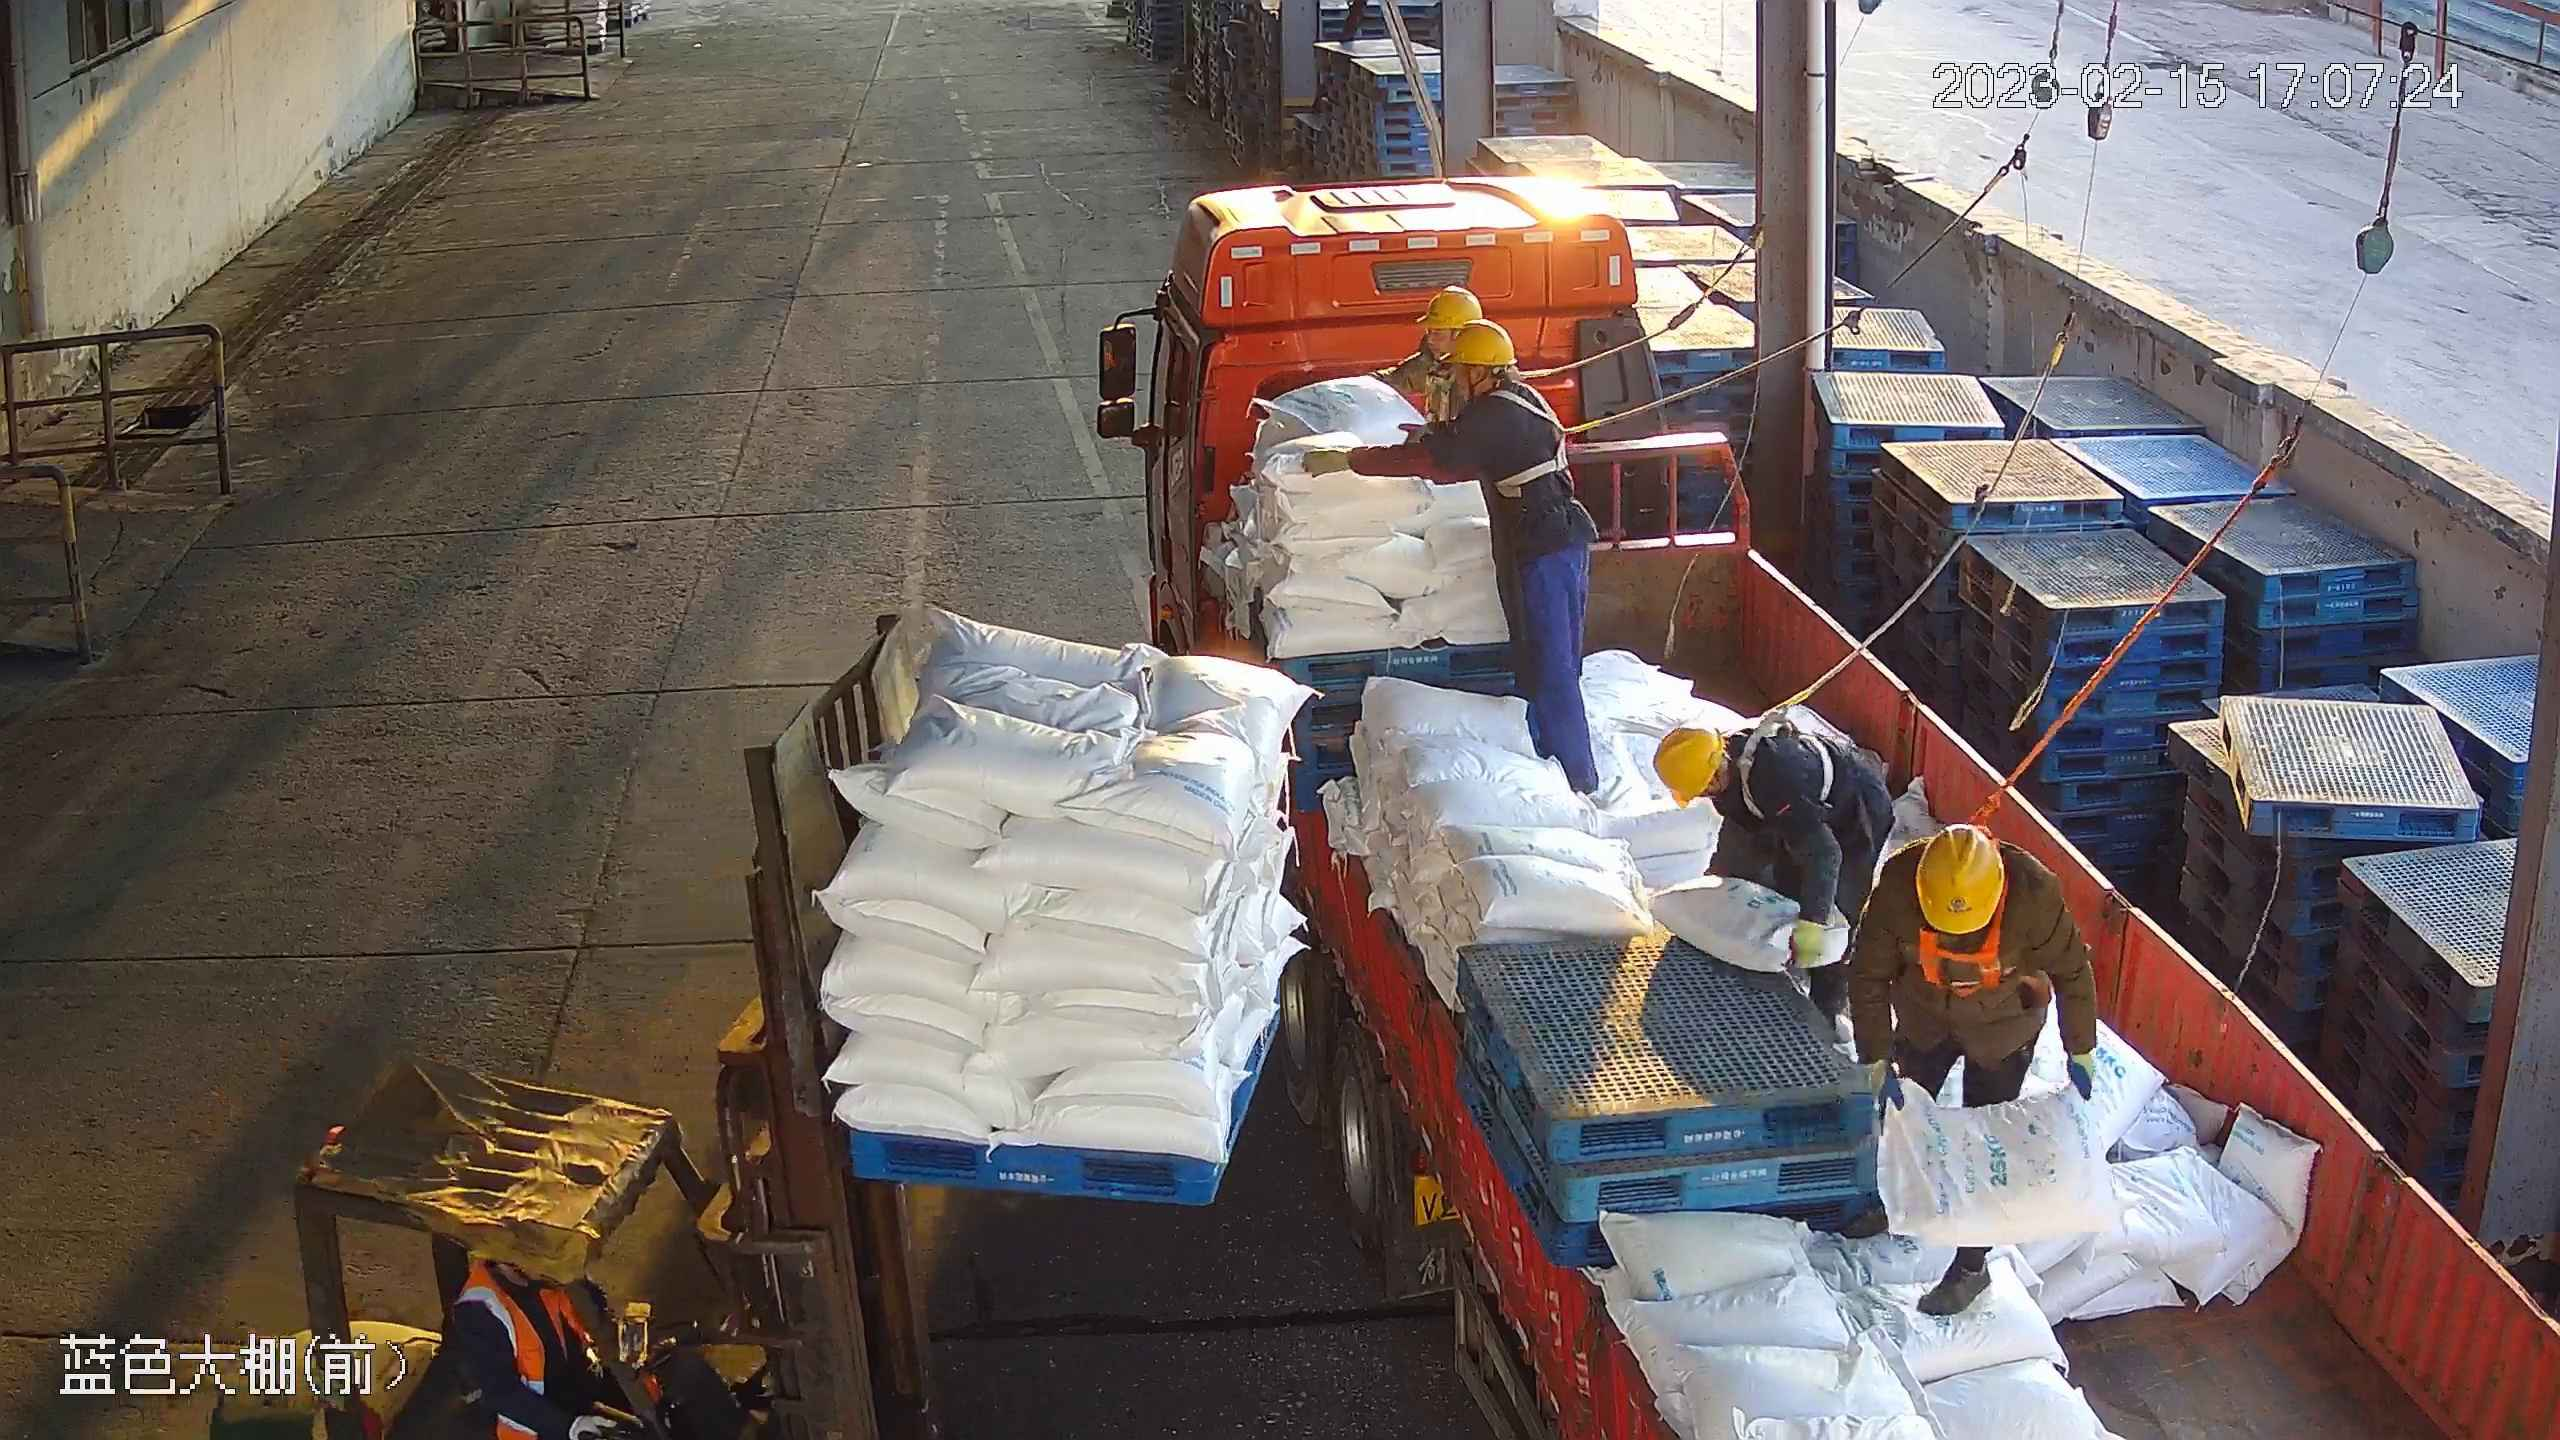belt: (1741, 703, 1842, 828), (1496, 381, 1599, 498), (1911, 919, 2019, 995), (1415, 358, 1466, 425)
head: (1873, 827, 2059, 971), (1657, 730, 1812, 842), (1430, 325, 1551, 469)
helmet: (1914, 824, 2006, 933), (1654, 724, 1723, 812), (1439, 322, 1519, 374), (1419, 285, 1489, 333)
people: (1300, 313, 1606, 798), (1847, 825, 2096, 1317), (1656, 723, 1901, 1032)
truck: (1083, 172, 2560, 1440)
